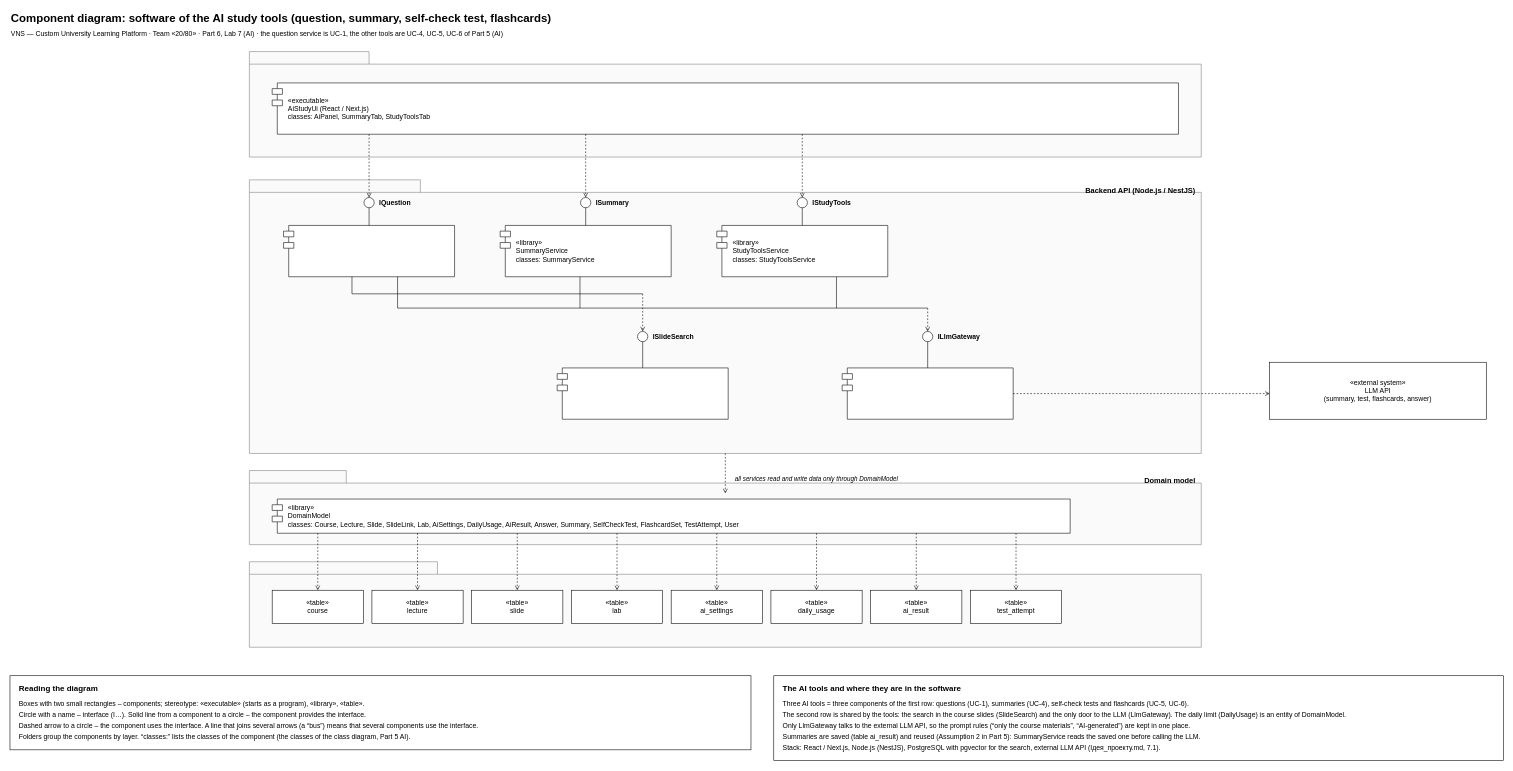
The diagram is 1513 pixels wide and 771 high, and some of its shapes have lost their labels. Each missing label, with the box of its shape:
Database (PostgreSQL + pgvector): (249, 561, 1201, 647)
Web client (browser): (249, 51, 1201, 157)
«library» LlmGateway classes: LlmGateway: (842, 367, 1013, 419)
«library» QuestionService classes: QuestionService, GradedTaskGuard: (283, 225, 455, 277)
«library» SlideSearch classes: SlideSearch: (557, 367, 728, 419)
